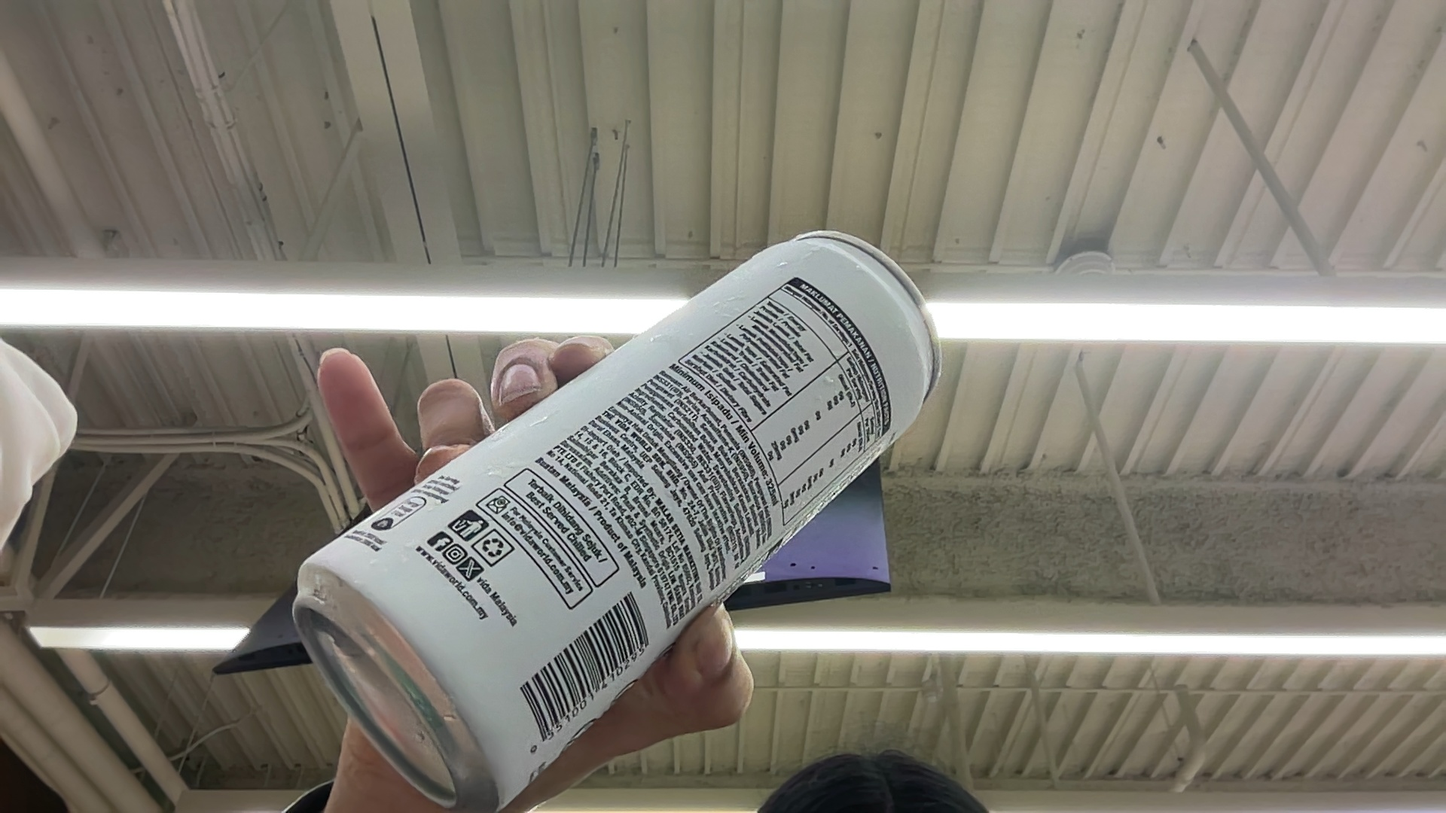Metal: (289, 197, 965, 799)
